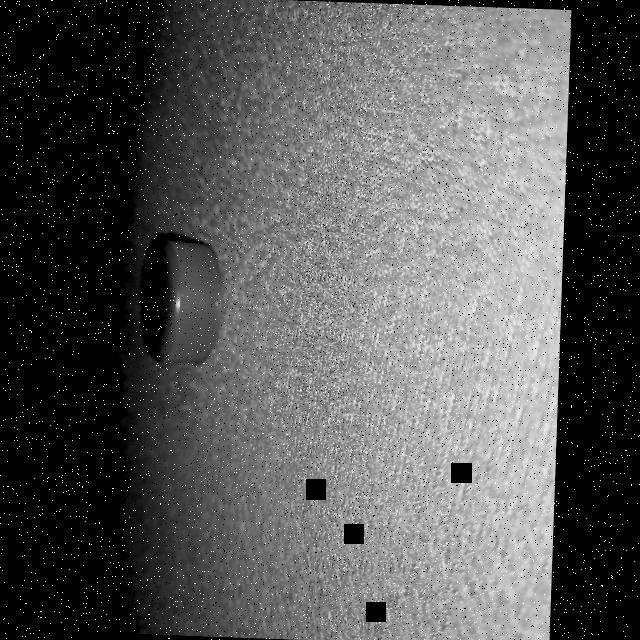plastic_bottle_cap: (137, 236, 225, 364)
